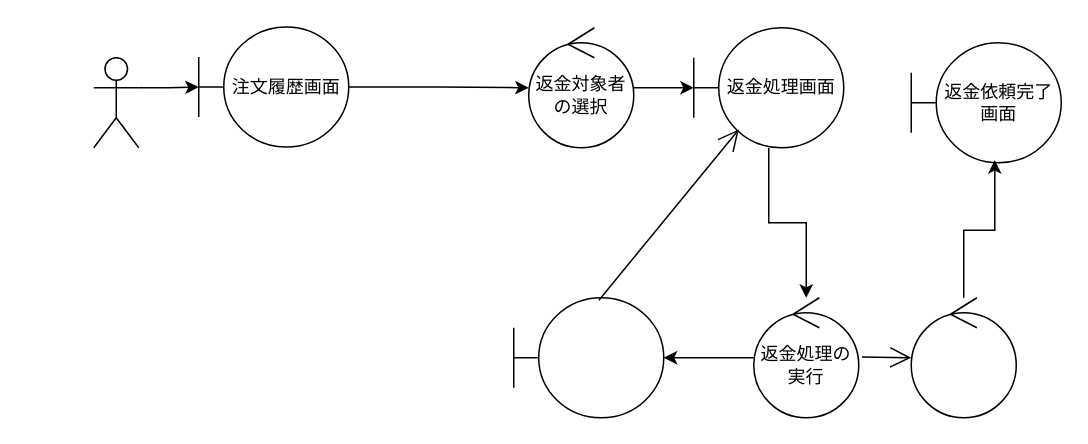
Some shapes in this 1088 by 444 pixel diagram are drawn without their labels. Each missing label, with the box of its shape:
エラーメッセージが表示された画面: (512, 296, 664, 418)
倉庫業者 アカウント管理者 カスタマーサポーター: (92, 56, 139, 148)
返金依頼を送信: (910, 296, 1016, 418)
